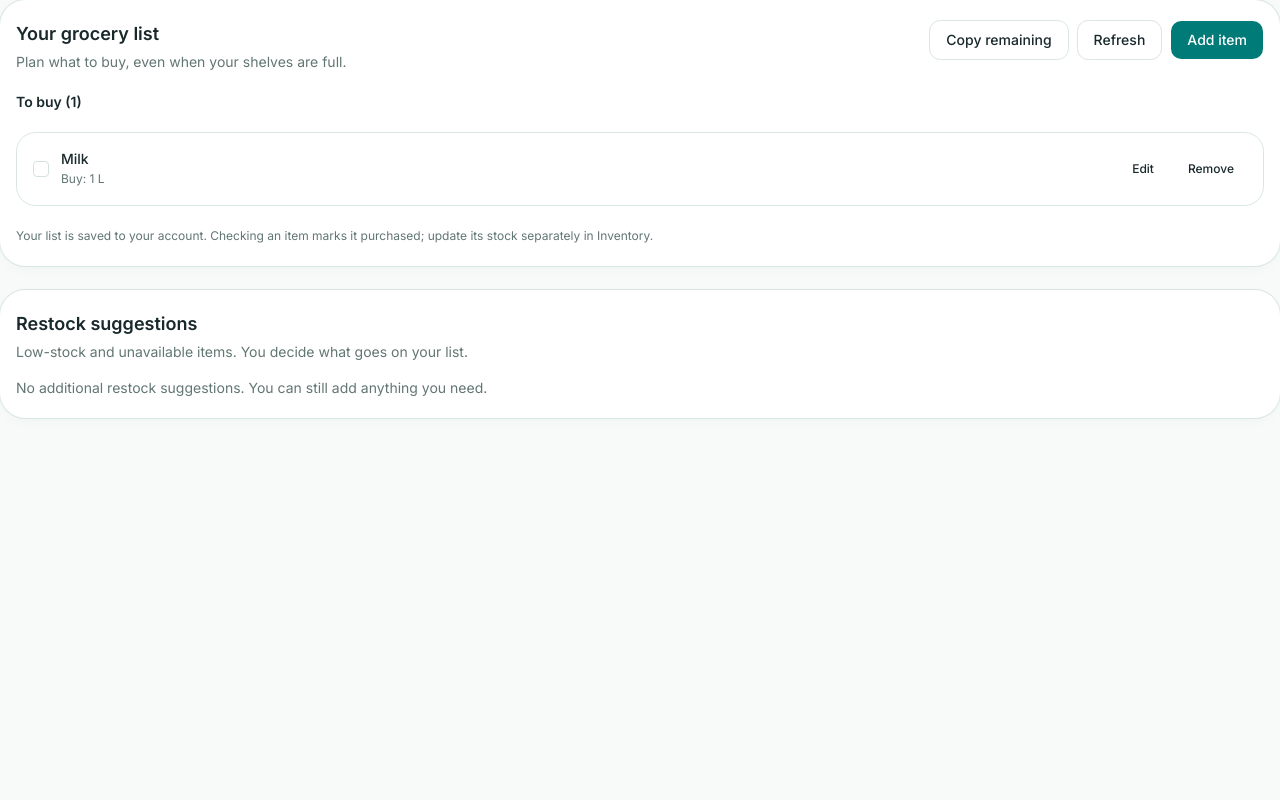
Test: removing a grocery item returns focus to the primary add action
What coordinates should you click on to do the following:
click the button with aria-label "Remove Milk"
I would click on:
 (1211, 169)
Its box is [1175,151,1247,187].
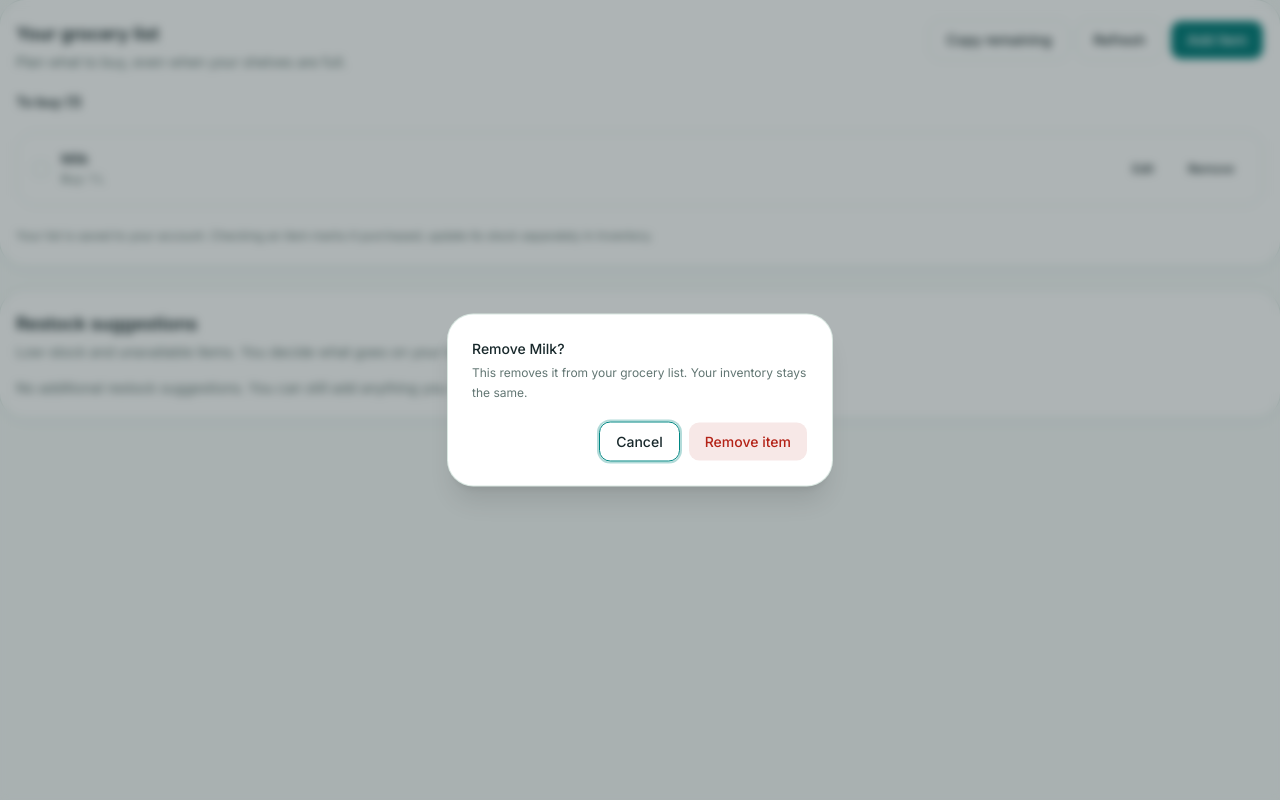
What coordinates should you click on to do the following:
click the button "Remove item"
I would click on:
 (748, 442)
Its box is [688,422,808,462].
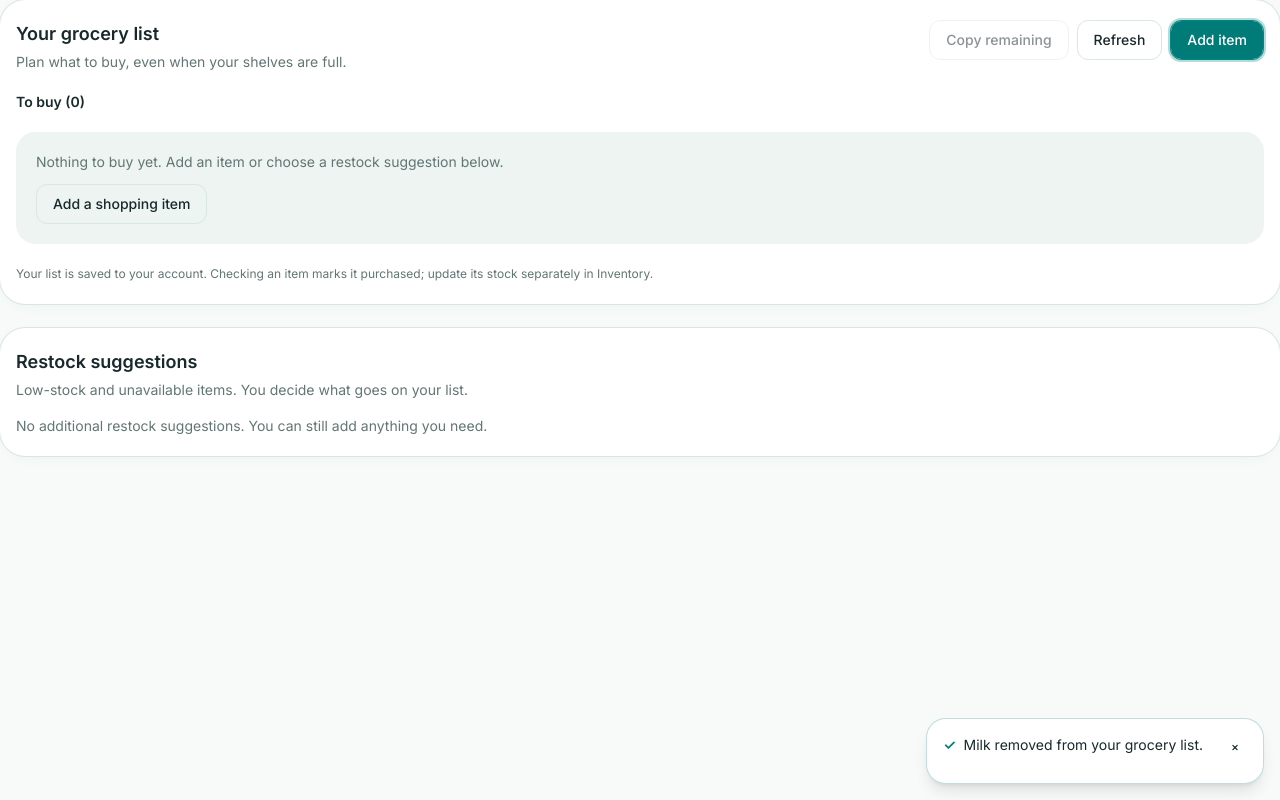
Expected: the checkbox is gone
